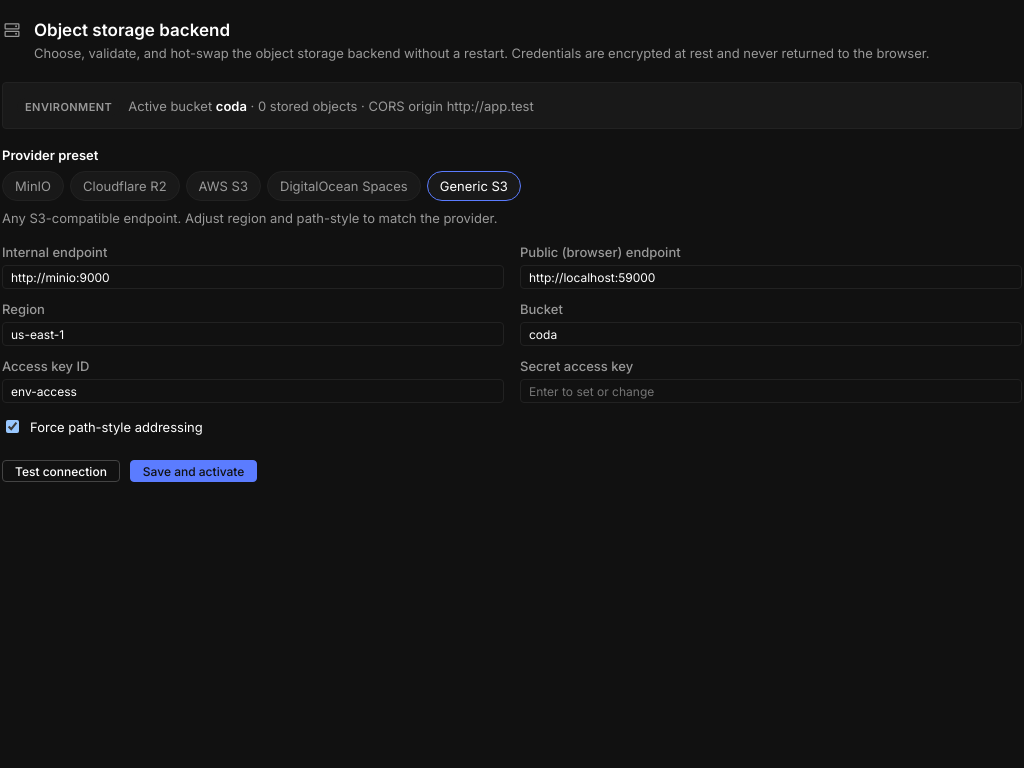
Scenario: StorageSection › starts a verified migration when the operator chooses to migrate
The width and height of the screenshot is (1024, 768).
Expected: the text "Environment" is shown, [17,98,120,116]
Click the button "Save and activate" at (194, 471), box [130,460,257,482]
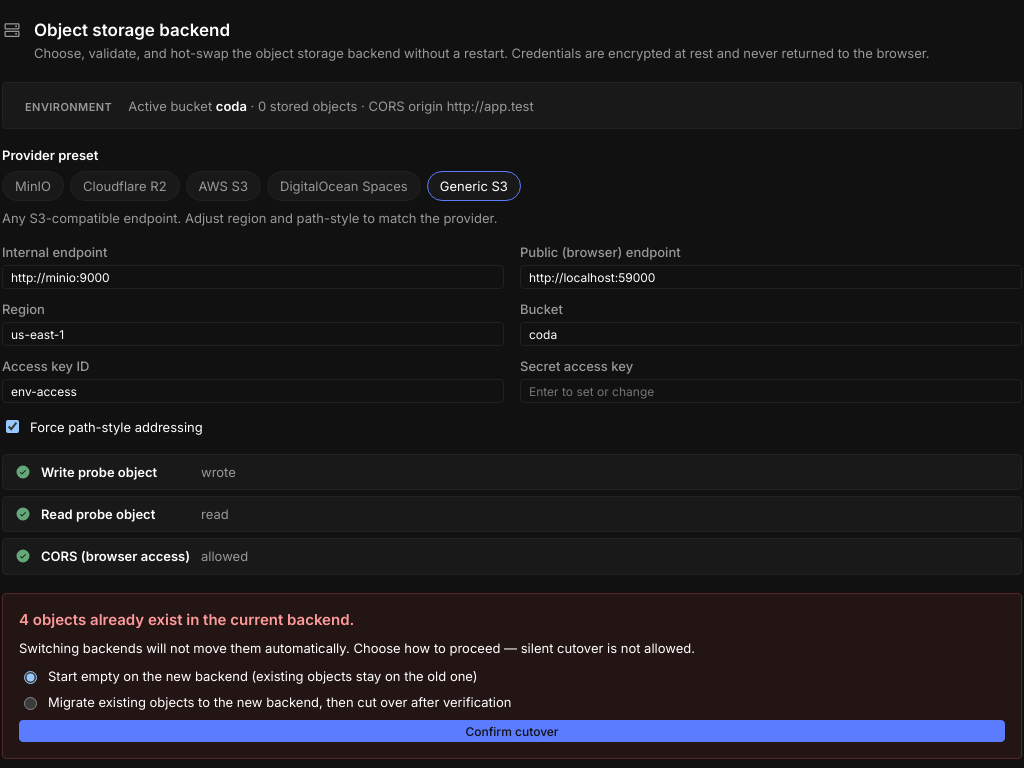
Click the radio button labelled "Migrate existing objects" at (30, 704), box [24,697,37,710]
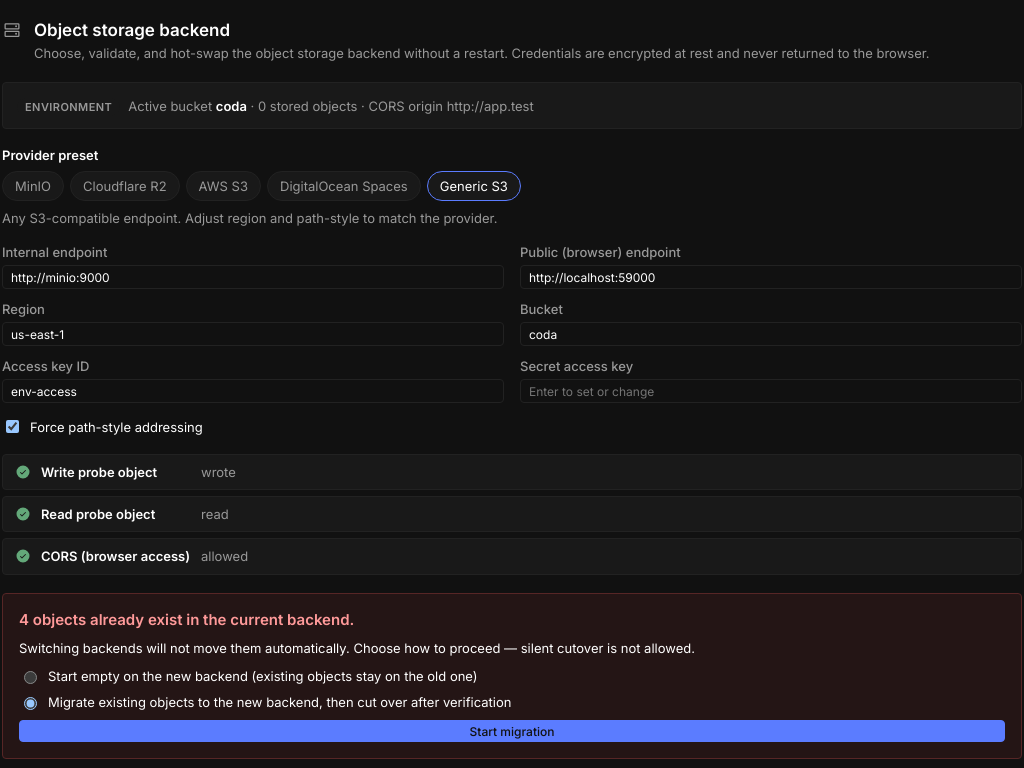
Click the button "Start migration" at (512, 731), box [19,720,1005,742]
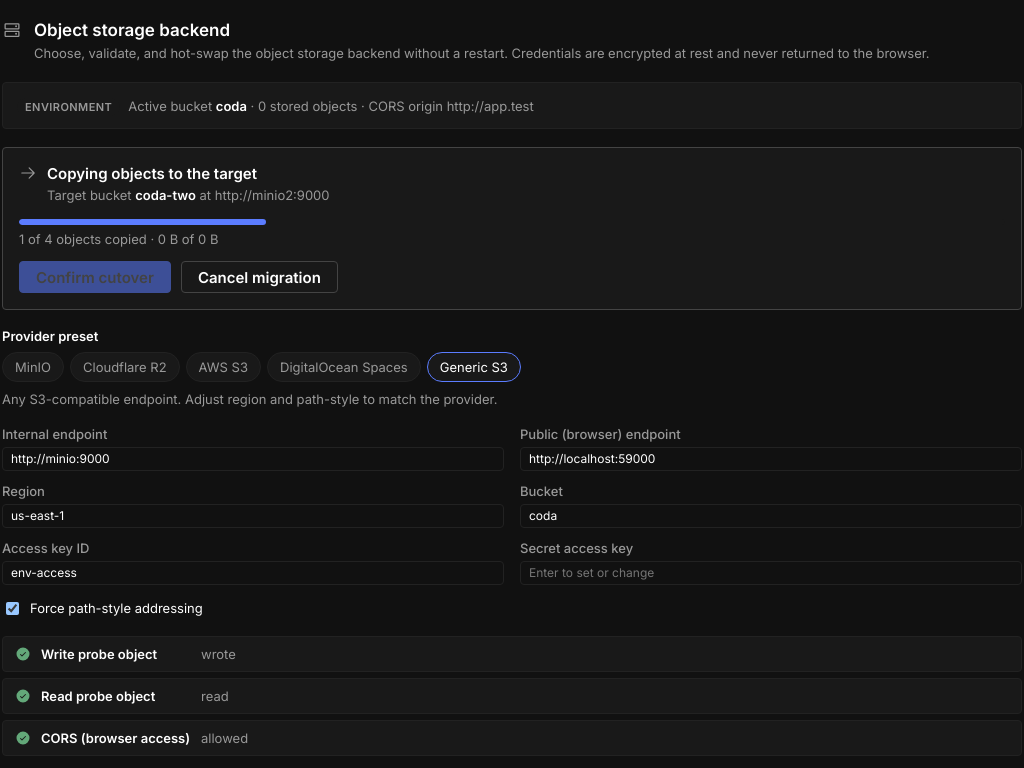
Now the element named "Object migration" is shown, box [2,146,1022,310]
Now the heading "Copying objects to the target" is shown, box [47,164,257,182]
